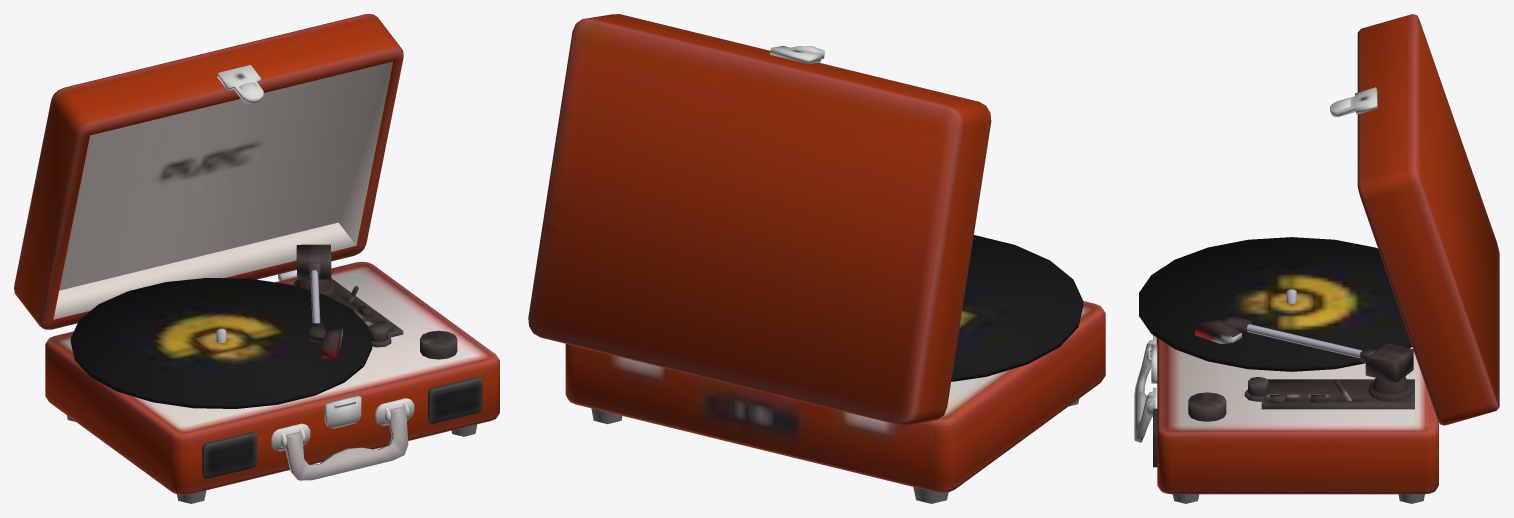
3 views of the same model, side by side, from view 1: azimuth 30°, elevation 25°; view 2: azimuth 150°, elevation 25°; view 3: azimuth 270°, elevation 25° (orthographic). The views are drawn at different scales.
Size of the model in its own units: 7.36 by 6.7 by 6.54.
1 material, 1 textured.
